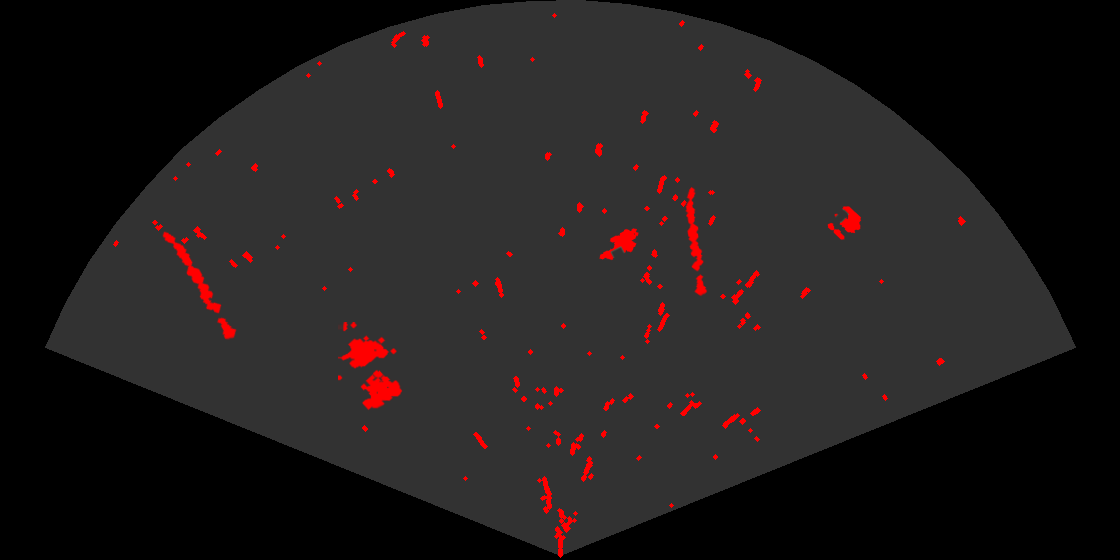AUV: (598, 227, 640, 262)
ball: (826, 205, 863, 241)
cage: (338, 322, 404, 412)
chain: (161, 230, 238, 341), (684, 185, 709, 298)
